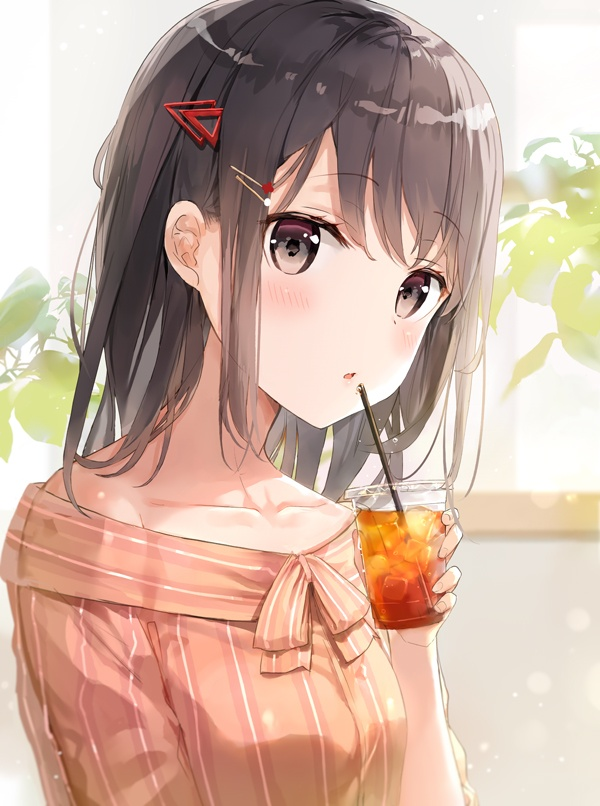纸片人正脸: (91, 0, 517, 437)
